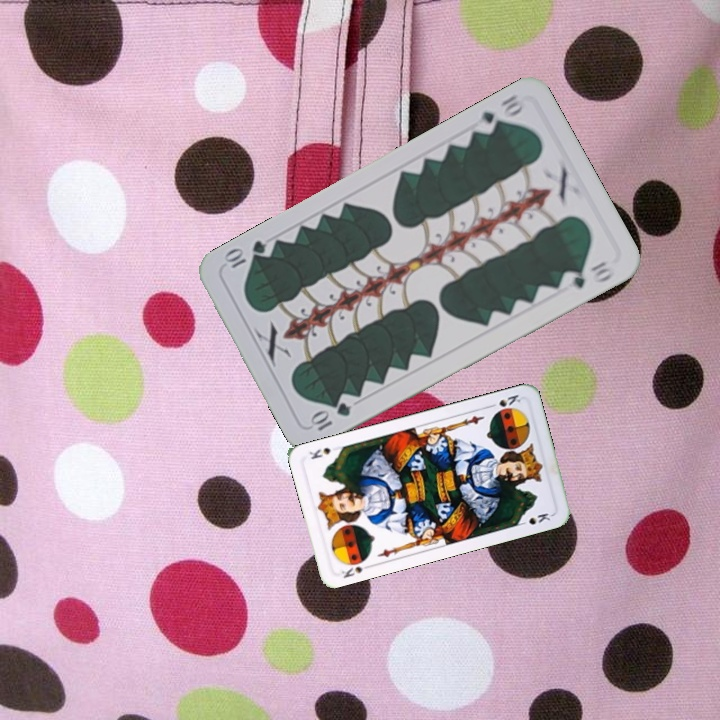G10: (471, 90, 527, 137), (306, 398, 354, 434)
SK: (484, 390, 523, 410), (338, 560, 374, 581)
